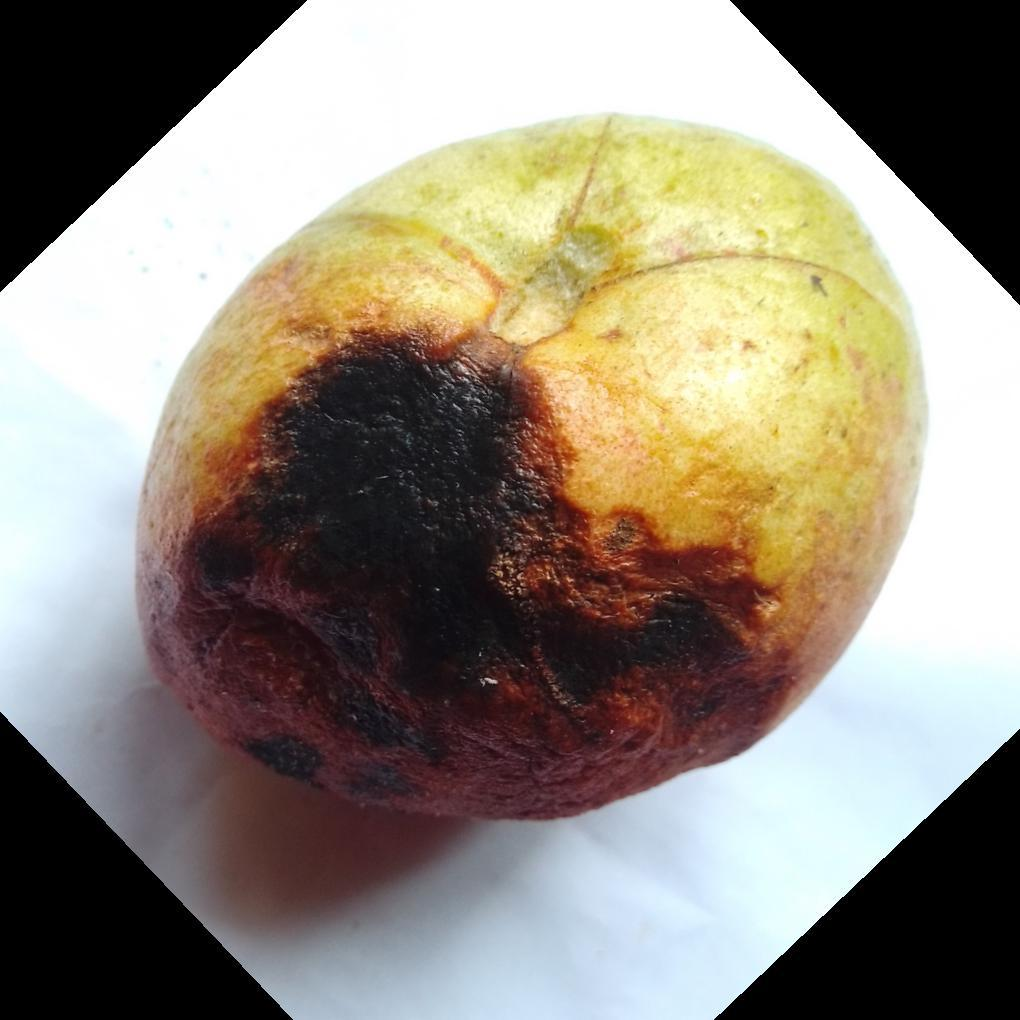FreshOrange: (132, 111, 931, 827)
